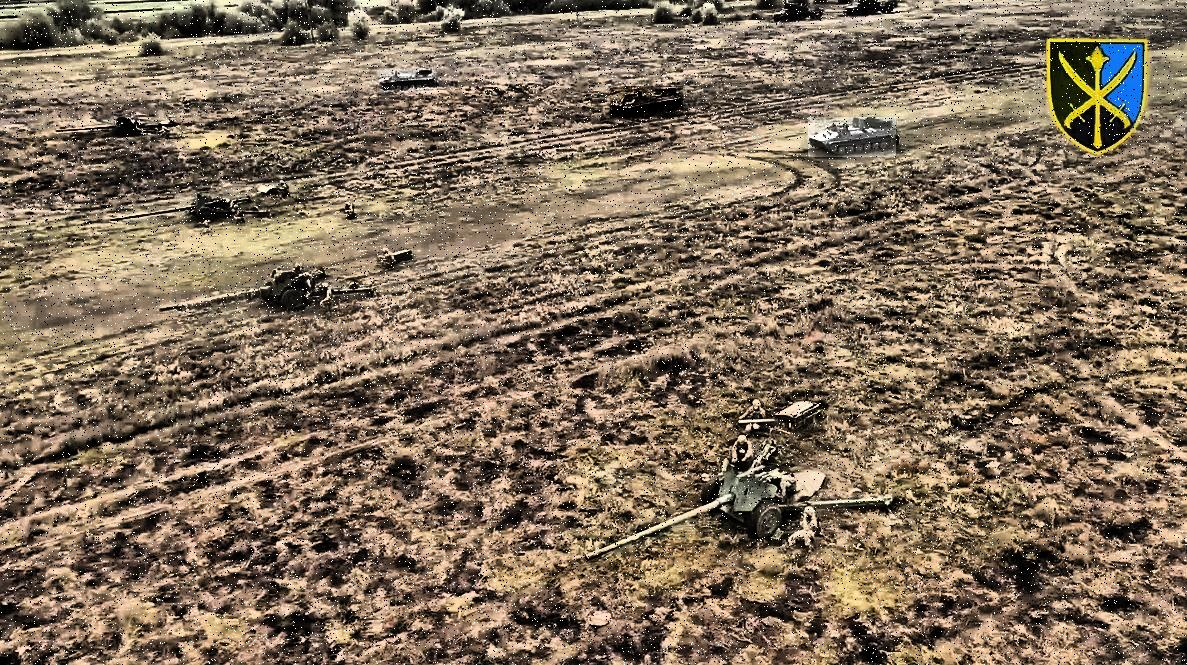military-vehicle: (809, 118, 897, 158), (610, 87, 683, 119), (378, 68, 437, 92)
